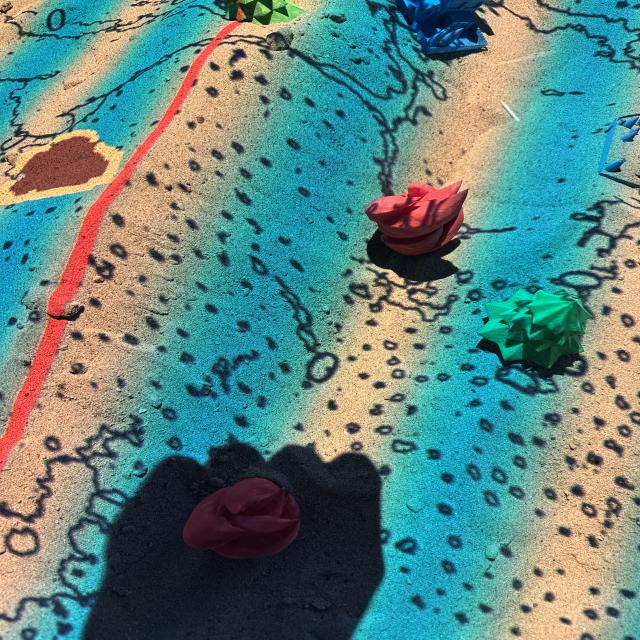fire: (181, 475, 302, 561), (367, 179, 468, 258)
house: (404, 0, 492, 54)
tree: (476, 286, 593, 371), (224, 0, 308, 27)
